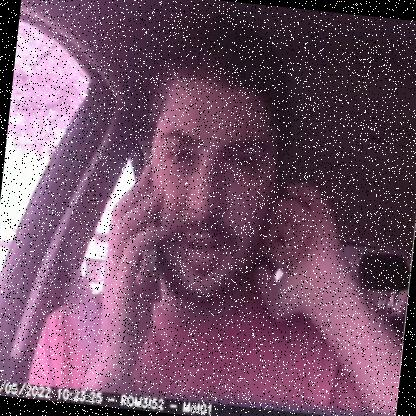phone: (108, 147, 183, 313)
